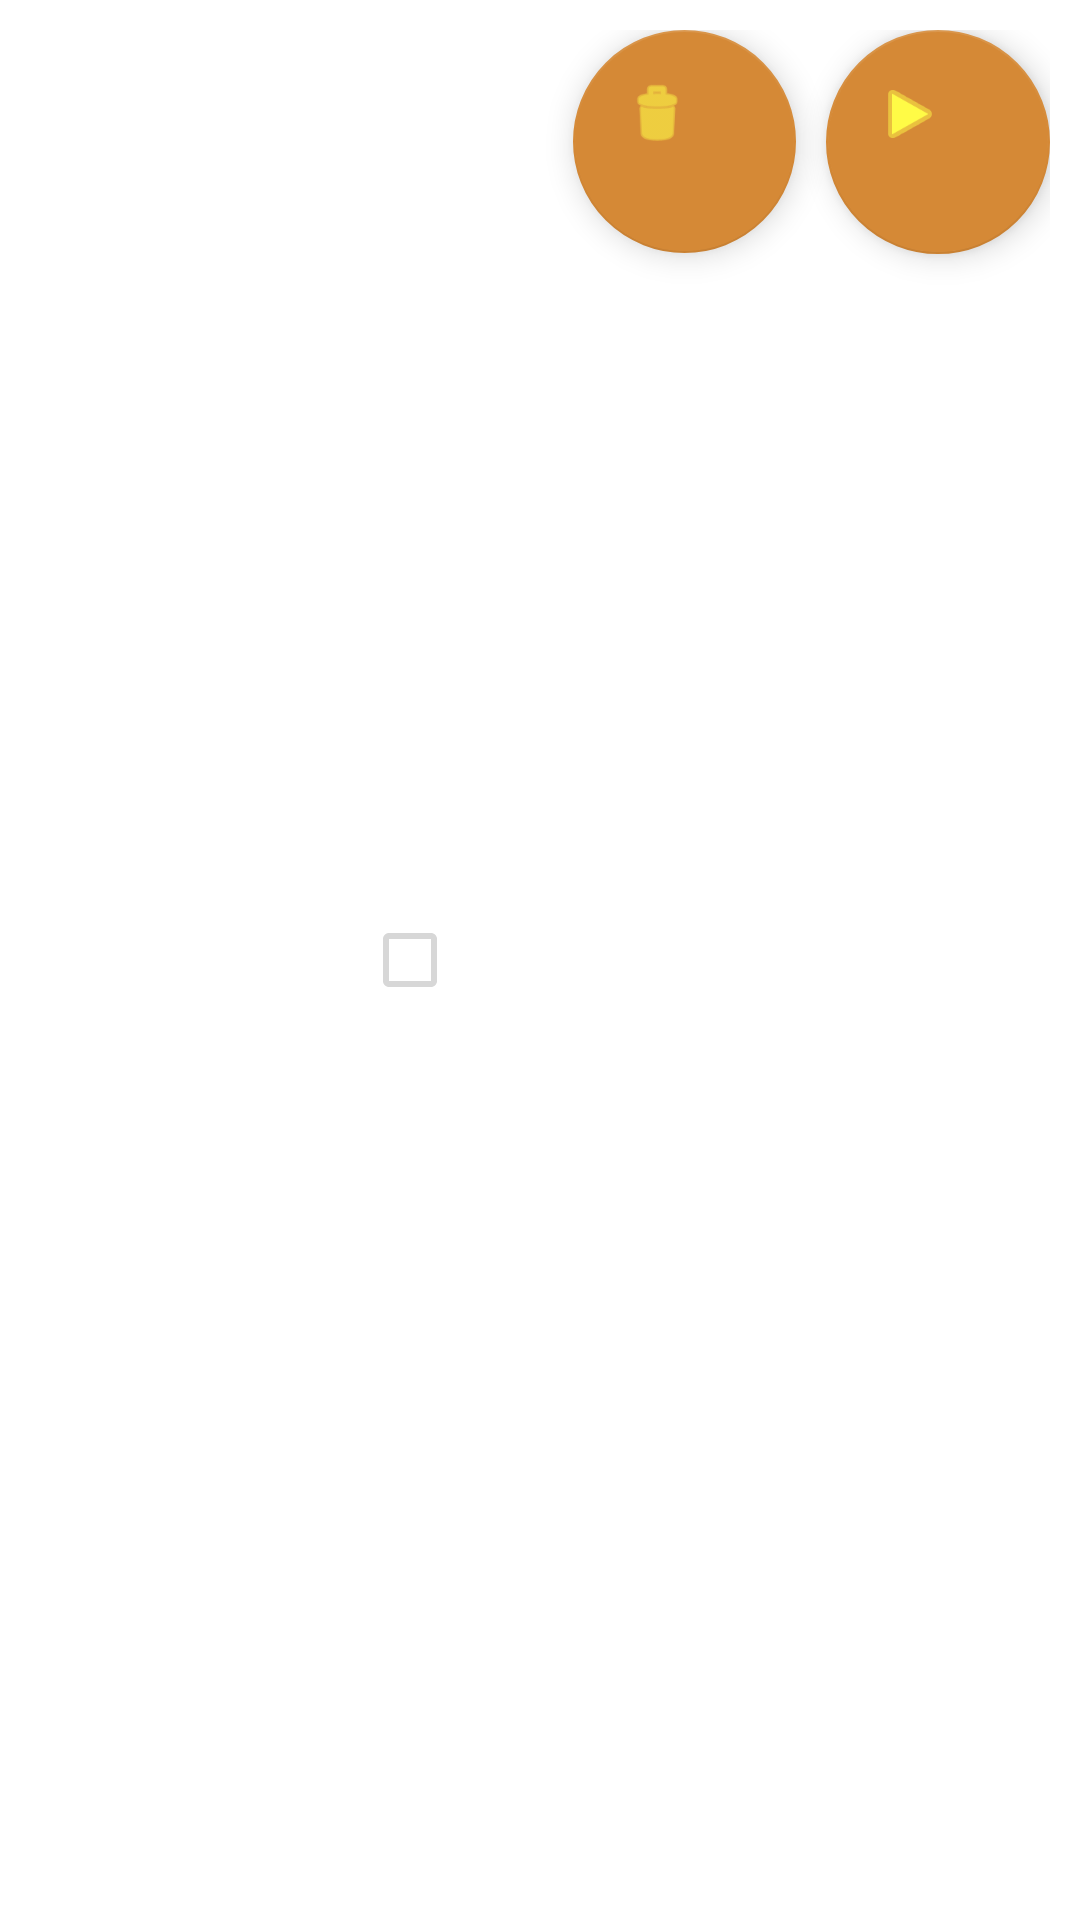

Where to tap for icons on this 1080x1920 app screen, as point (x, y):
delete: point (684, 141)
play: point (938, 142)
